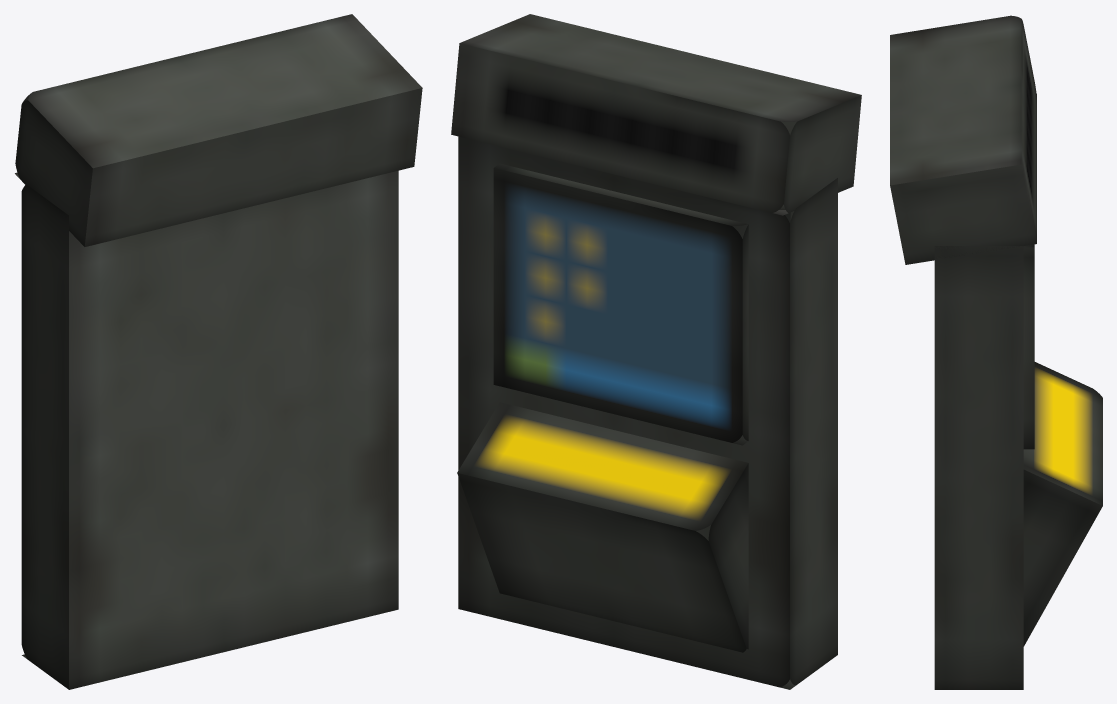
Rendered from keycard_screen.obj.
3 renders of one model, left to right at view 1: azimuth 30°, elevation 25°; view 2: azimuth 150°, elevation 25°; view 3: azimuth 270°, elevation 25°, orthographic. The views are drawn at different scales.
Parts seen in each view (by area): view 1: nx, nA; view 2: nx, nz, nA, ny; view 3: nx, nA, ny, nz.
Boxes of the visible parts, <box> form: nx: <box>21,170,398,689</box>; nA: <box>15,14,422,246</box>; nx: <box>458,136,837,689</box>; nz: <box>493,163,790,445</box>; nA: <box>451,14,861,215</box>; ny: <box>457,402,748,652</box>; nx: <box>934,246,1023,689</box>; nA: <box>890,15,1036,264</box>; ny: <box>1023,362,1102,646</box>; nz: <box>1023,244,1034,449</box>.
Size of the model in its own units: 0.5 by 0.8138 by 0.2989.
1 material, 1 textured.
